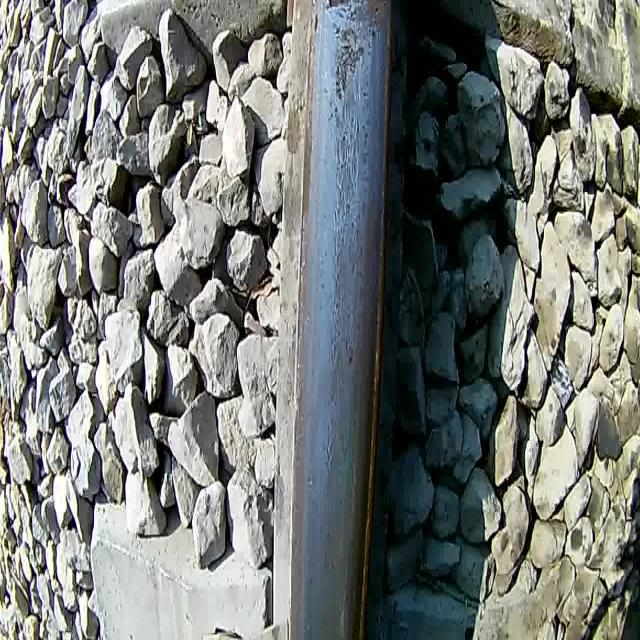Grooves: (321, 100, 364, 500)
Squats: (322, 0, 395, 105)
